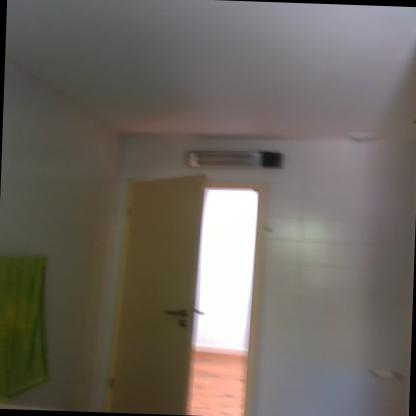semi: (104, 170, 273, 416)
